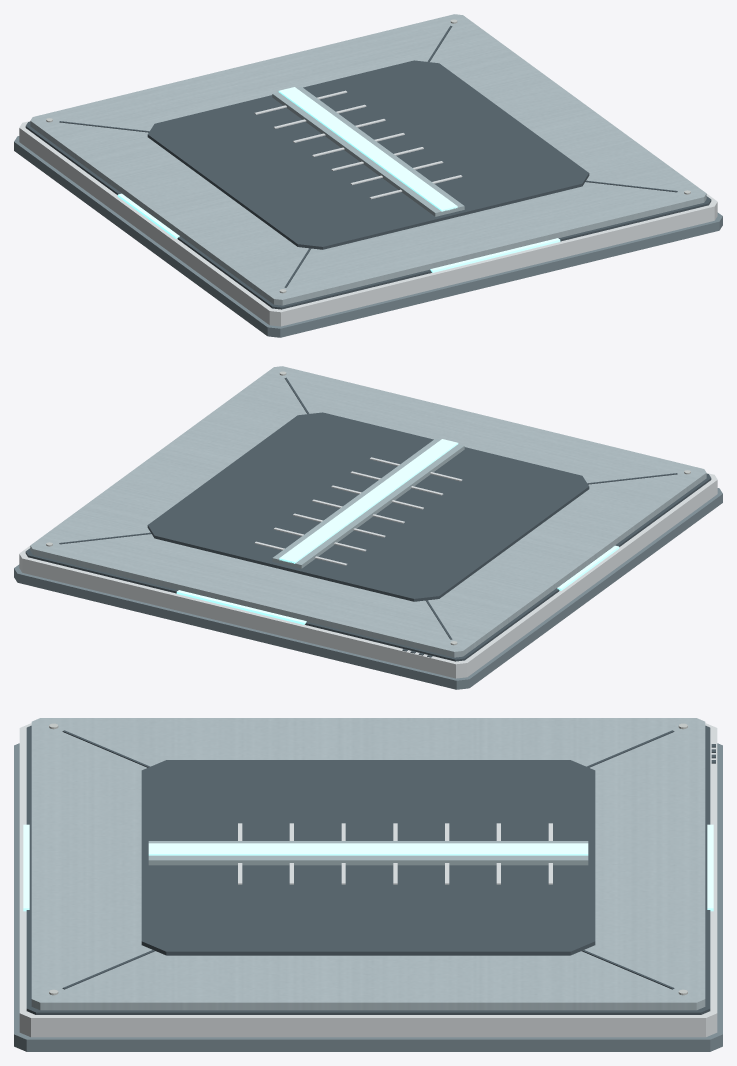
The model's file is m02-metal-service-conduit.glb.
The picture shows the model from 3 angles, top to bottom: view 1: azimuth 30°, elevation 25°; view 2: azimuth 150°, elevation 25°; view 3: azimuth 270°, elevation 25°; orthographic projection. The views are drawn at different scales.
Visible parts, largest first — view 1: service-conduit/003, service-conduit/020, service-conduit/001, service-conduit/000, service-conduit/022, service-conduit/021, service-conduit/002, service-conduit/014; view 2: service-conduit/003, service-conduit/020, service-conduit/001, service-conduit/000, service-conduit/022, service-conduit/021, service-conduit/002, service-conduit/013; view 3: service-conduit/003, service-conduit/020, service-conduit/001, service-conduit/000, service-conduit/002, service-conduit/021, service-conduit/022, service-conduit/013, service-conduit/014.
Part boxes in pixels (x1,y1,x2,y2): service-conduit/003: (30, 14, 706, 305); service-conduit/020: (147, 60, 589, 249); service-conduit/001: (19, 121, 717, 326); service-conduit/000: (14, 136, 722, 337); service-conduit/022: (278, 87, 457, 211); service-conduit/021: (272, 86, 464, 216); service-conduit/002: (25, 121, 711, 309); service-conduit/014: (430, 238, 560, 272); service-conduit/003: (30, 366, 706, 657); service-conduit/020: (147, 412, 589, 601); service-conduit/001: (19, 473, 717, 678); service-conduit/000: (14, 488, 722, 689); service-conduit/022: (279, 439, 458, 563); service-conduit/021: (272, 438, 464, 568); service-conduit/002: (25, 473, 711, 661); service-conduit/013: (176, 590, 306, 624); service-conduit/003: (31, 718, 705, 1010); service-conduit/020: (141, 760, 595, 955); service-conduit/001: (19, 723, 717, 1037); service-conduit/000: (14, 743, 722, 1051); service-conduit/002: (26, 725, 710, 1014); service-conduit/021: (148, 841, 588, 865); service-conduit/022: (148, 843, 588, 855); service-conduit/013: (707, 824, 713, 911); service-conduit/014: (23, 824, 29, 911).
Bounding box in the file's own units: 1 × 0.083 × 1.
7 materials, 1 textured.
